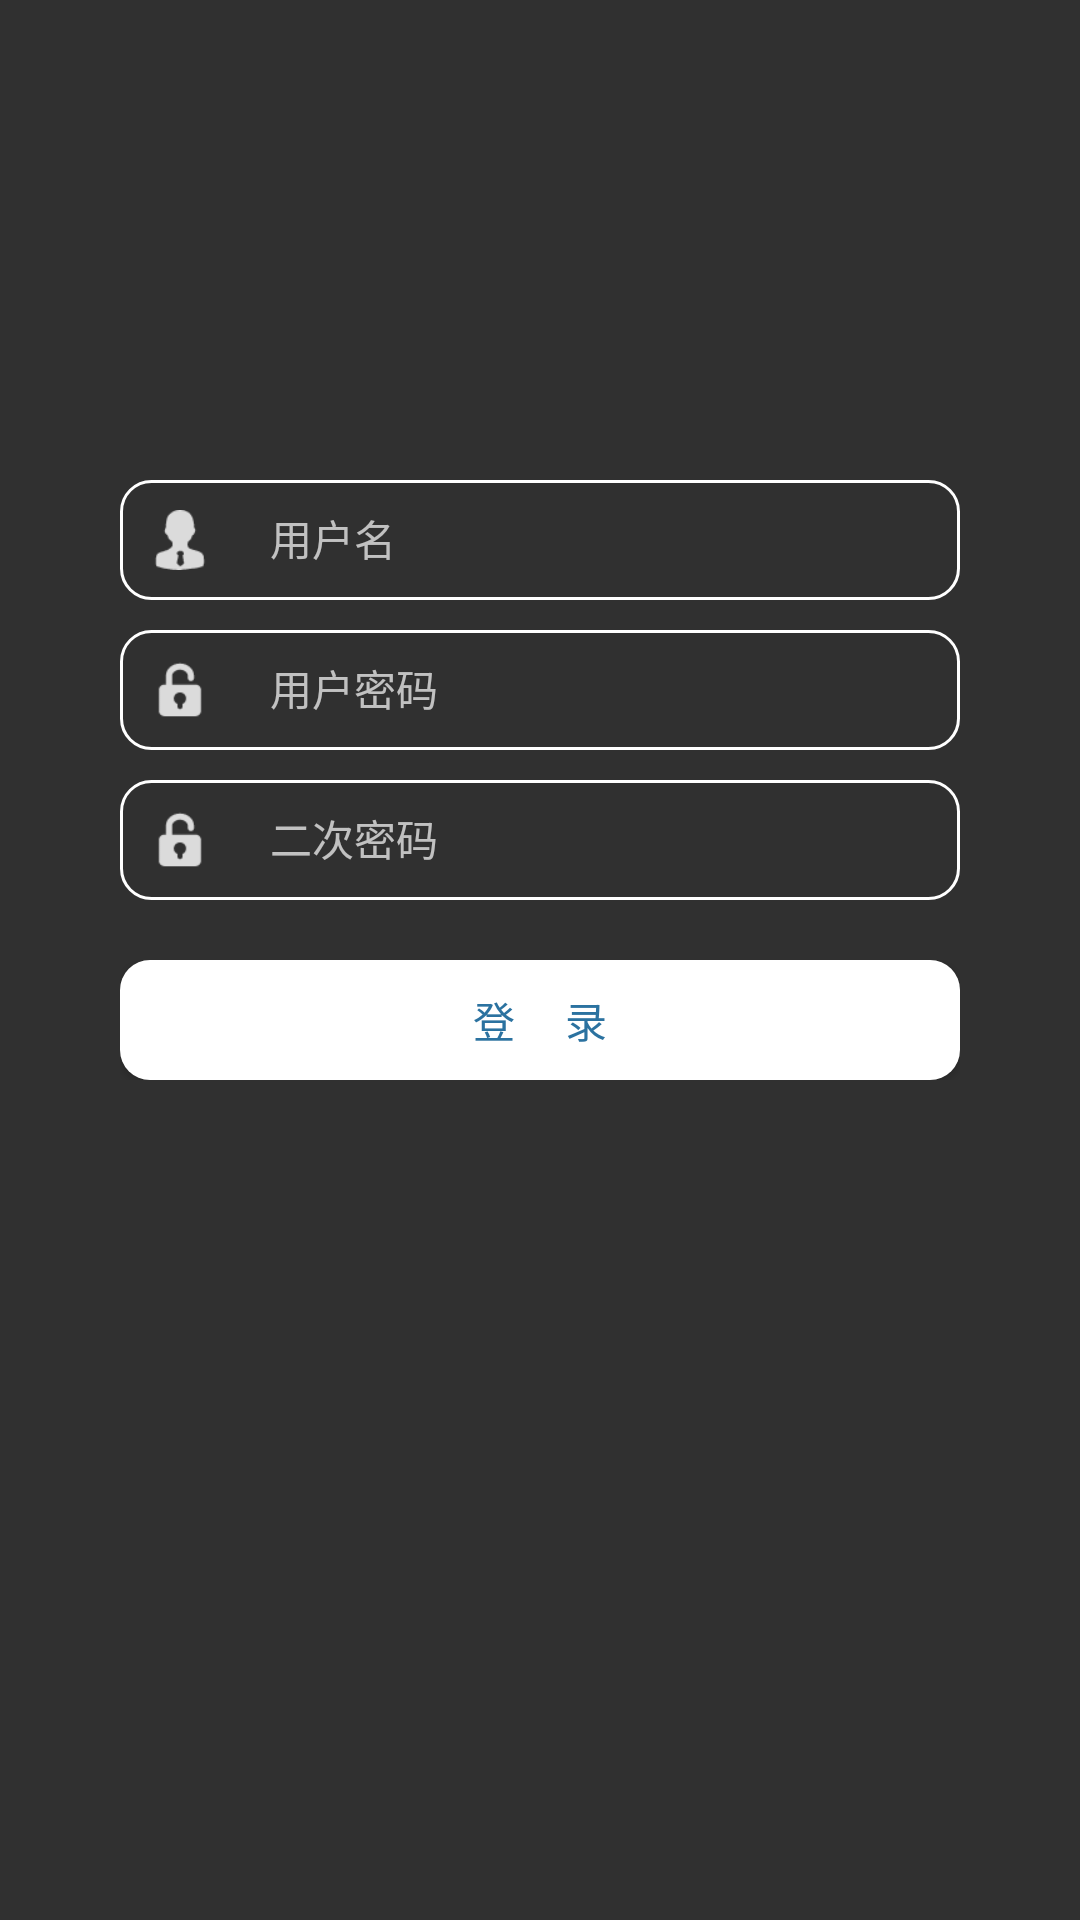

Where to tap for icons on this 1080*1920 app screen, as (x=x, y=y):
log password: (x=180, y=690), (x=180, y=840)
log username: (x=180, y=540)
